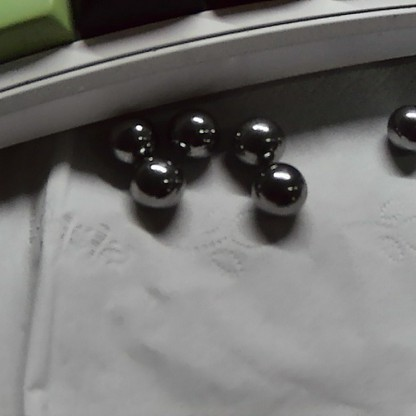ironball: (122, 151, 192, 209), (163, 97, 223, 161), (227, 111, 289, 171), (253, 163, 307, 218), (97, 115, 161, 155), (370, 101, 414, 152)
